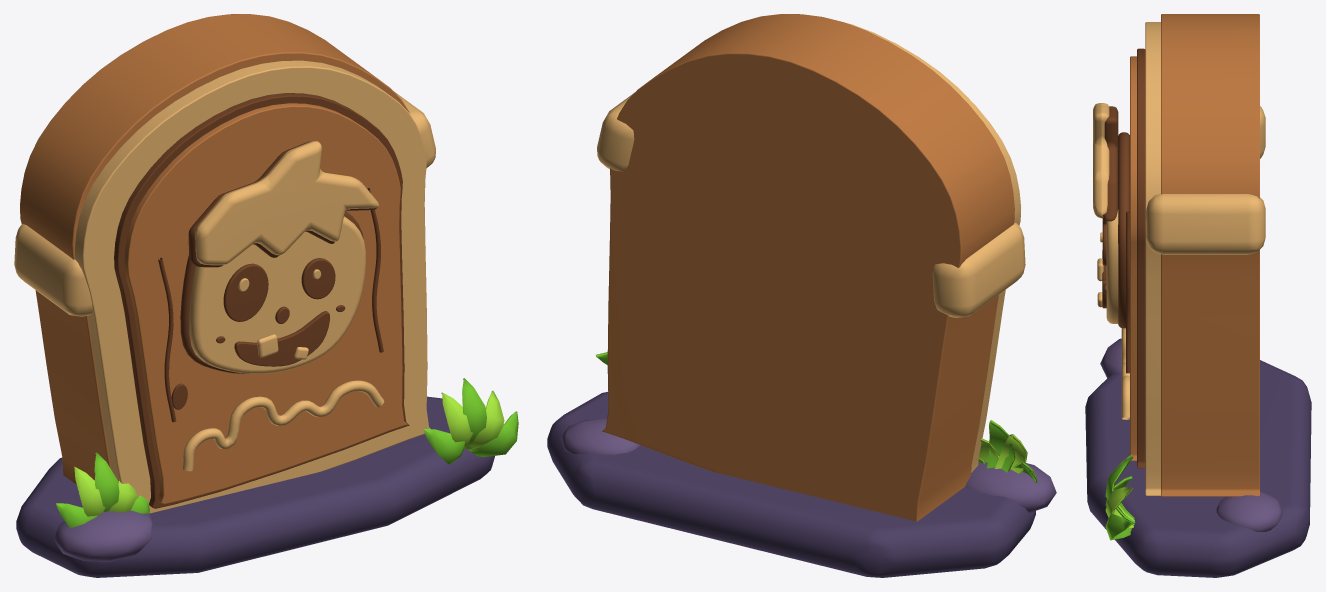
The model's file is Grave_Wooden.glb.
The picture shows the model from 3 angles, left to right: view 1: azimuth 30°, elevation 25°; view 2: azimuth 150°, elevation 25°; view 3: azimuth 270°, elevation 25°; orthographic projection. The views are drawn at different scales.
Parts seen in each view (by area): view 1: Headstone / soft inset, Headstone / single thick rounded rim, Headstone / pudgy asymmetrical body, Base / single soft rock, Face / round squishy cheeks, Face / floppy rounded fringe, Headstone / warm panel shadow, Shoulder / rounded tab, Base / little stone, Ornament / little puffy cloud, Face / happy crooked open smile, Face / big curious eye (+13 smaller); view 2: Headstone / pudgy asymmetrical body, Base / single soft rock, Shoulder / rounded tab, Base / little stone, Headstone / single thick rounded rim, Base / little stone.001, Shoulder / rounded tab.001, Grass / fat curved blade.002; view 3: Headstone / pudgy asymmetrical body, Base / single soft rock, Shoulder / rounded tab.001, Headstone / single thick rounded rim, Headstone / warm panel shadow, Headstone / soft inset, Base / little stone.001, Face / shallow outline, Face / floppy rounded fringe, Face / floppy fringe shadow, Face / round squishy cheeks, Wood / curved grain.001 (+5 smaller).
Part boxes in pixels (x1=…): Headstone / soft inset: x1=124, y1=103, x2=407, y2=504; Headstone / single thick rounded rim: x1=74, y1=60, x2=430, y2=513; Headstone / pudgy asymmetrical body: x1=20, y1=14, x2=409, y2=484; Base / single soft rock: x1=16, y1=396, x2=494, y2=577; Face / round squishy cheeks: x1=189, y1=216, x2=365, y2=373; Face / floppy rounded fringe: x1=195, y1=141, x2=379, y2=265; Headstone / warm panel shadow: x1=114, y1=93, x2=409, y2=508; Shoulder / rounded tab: x1=14, y1=224, x2=92, y2=316; Base / little stone: x1=53, y1=510, x2=152, y2=561; Ornament / little puffy cloud: x1=182, y1=380, x2=384, y2=471; Face / happy crooked open smile: x1=234, y1=311, x2=329, y2=366; Face / big curious eye: x1=223, y1=263, x2=268, y2=321; Headstone / pudgy asymmetrical body: x1=602, y1=14, x2=1014, y2=521; Base / single soft rock: x1=547, y1=392, x2=1035, y2=577; Shoulder / rounded tab: x1=932, y1=223, x2=1025, y2=317; Base / little stone: x1=965, y1=462, x2=1056, y2=512; Headstone / single thick rounded rim: x1=846, y1=23, x2=1020, y2=472; Base / little stone.001: x1=560, y1=418, x2=640, y2=454; Shoulder / rounded tab.001: x1=597, y1=92, x2=634, y2=171; Grass / fat curved blade.002: x1=987, y1=420, x2=1015, y2=472; Headstone / pudgy asymmetrical body: x1=1161, y1=14, x2=1259, y2=496; Base / single soft rock: x1=1085, y1=360, x2=1311, y2=577; Shoulder / rounded tab.001: x1=1146, y1=193, x2=1265, y2=254; Headstone / single thick rounded rim: x1=1145, y1=22, x2=1161, y2=495; Headstone / warm panel shadow: x1=1137, y1=48, x2=1145, y2=468; Headstone / soft inset: x1=1130, y1=56, x2=1136, y2=460; Base / little stone.001: x1=1216, y1=492, x2=1282, y2=531; Face / shallow outline: x1=1118, y1=132, x2=1129, y2=328; Face / floppy rounded fringe: x1=1093, y1=103, x2=1109, y2=218; Face / floppy fringe shadow: x1=1102, y1=106, x2=1118, y2=222; Face / round squishy cheeks: x1=1106, y1=209, x2=1118, y2=323; Wood / curved grain.001: x1=1126, y1=211, x2=1129, y2=373.
Bounding box in the file's own units: 2.65 × 2.63 × 1.23.
